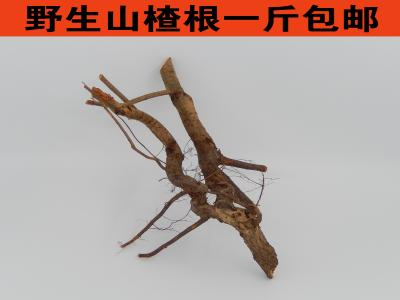Root: (160, 58, 278, 278), (86, 87, 209, 204), (121, 189, 211, 258)
